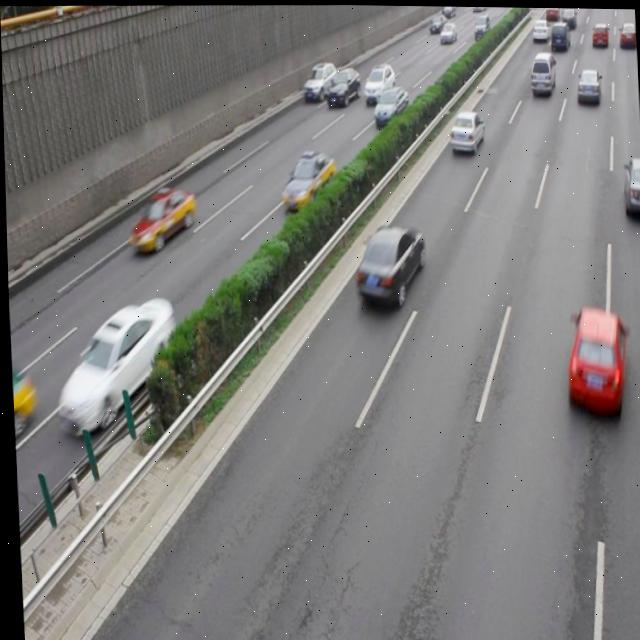car: (49, 293, 177, 439), (559, 303, 626, 416), (351, 222, 425, 307), (125, 184, 195, 254), (277, 148, 335, 209), (446, 107, 483, 155), (371, 84, 407, 124), (618, 154, 640, 215)
